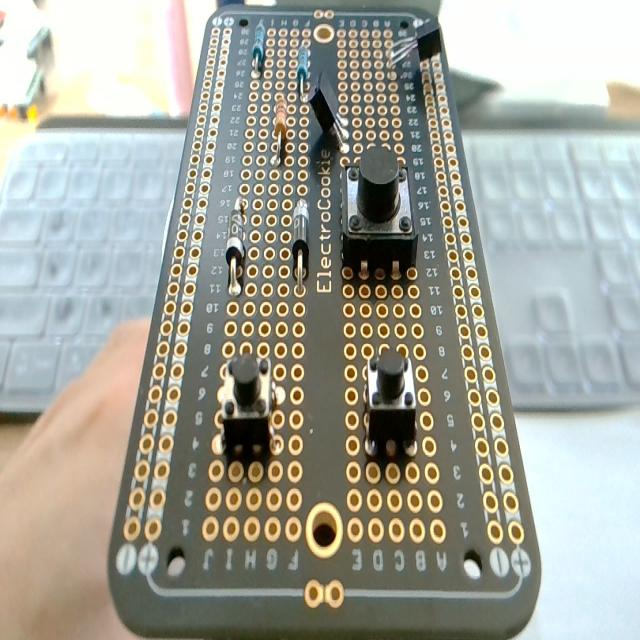diode: (226, 194, 247, 294), (292, 198, 310, 289)
resistor: (273, 96, 288, 166), (252, 20, 266, 76), (296, 44, 309, 92)
switch: (340, 144, 418, 282), (220, 349, 276, 462), (365, 347, 417, 458)
transistor: (308, 69, 349, 154), (386, 18, 440, 71)
